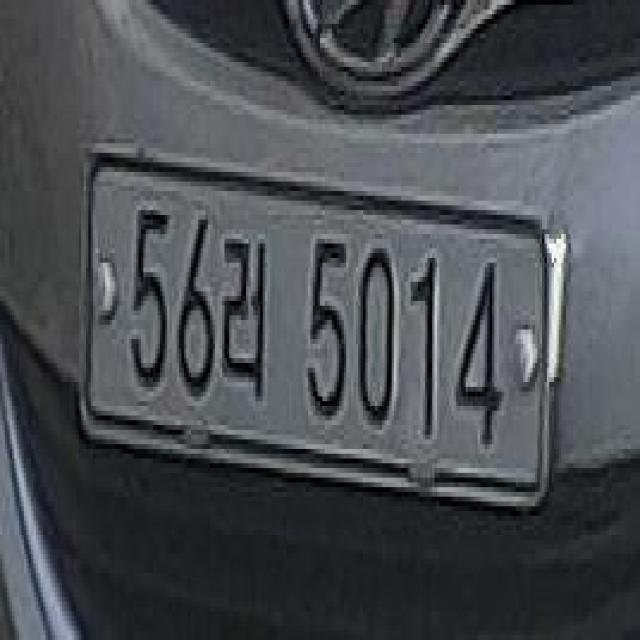illegal_plate: (82, 143, 554, 518)
